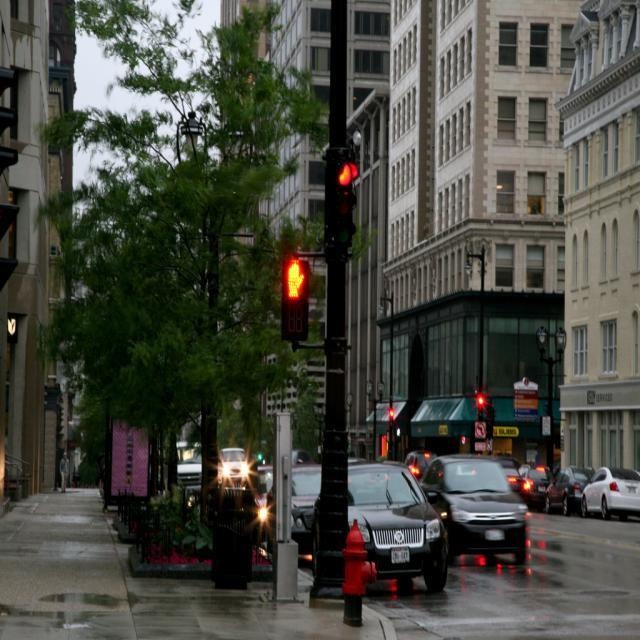traffic light: (323, 148, 361, 247), (281, 257, 308, 341)
